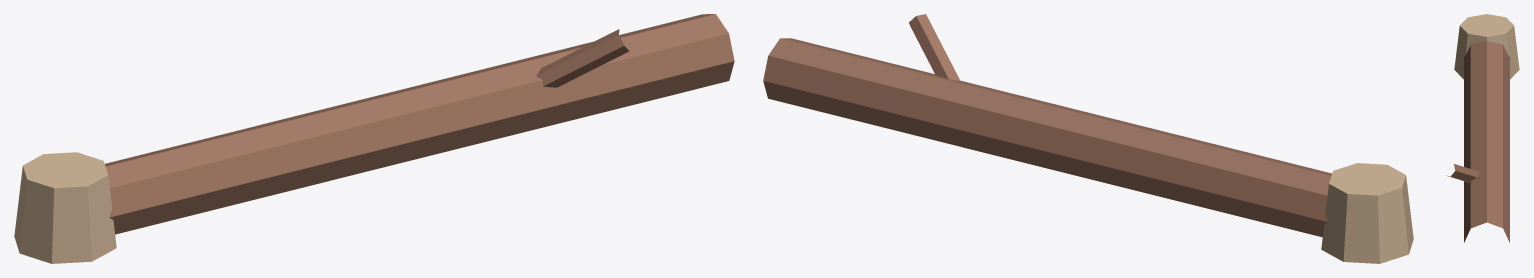
3 views of the same model, side by side, from view 1: azimuth 30°, elevation 25°; view 2: azimuth 150°, elevation 25°; view 3: azimuth 270°, elevation 25° (orthographic). The views are drawn at different scales.
Visible parts, largest first — view 1: WB_larchLog; view 2: WB_larchLog; view 3: WB_larchLog.
Boxes of the visible parts, left/top/right/bottom form: WB_larchLog: left=14, top=14, right=734, bottom=263; WB_larchLog: left=763, top=14, right=1413, bottom=263; WB_larchLog: left=1446, top=14, right=1519, bottom=242.
Bounding box in the file's own units: 9.1 × 1.33 × 1.42.
